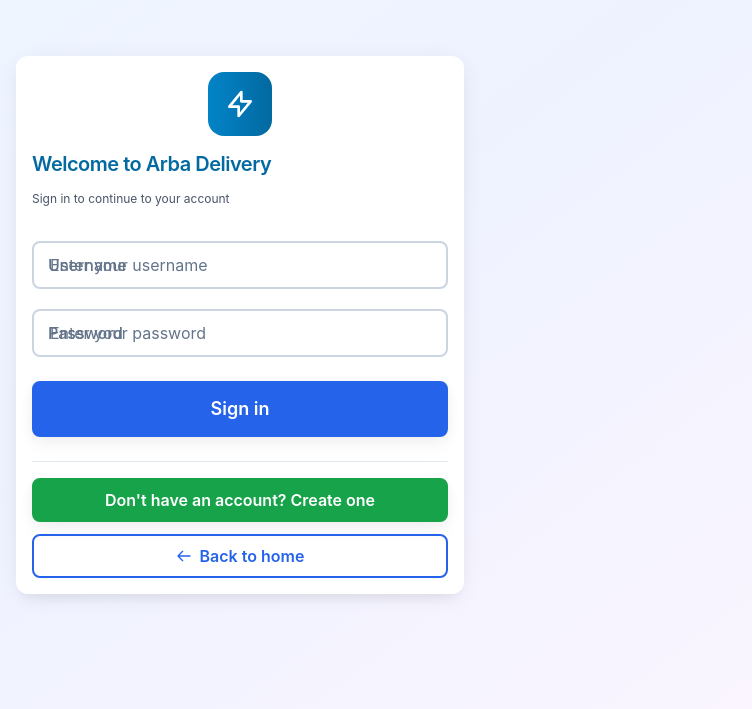
Test: Authentication Integration Tests › Authentication Flow Functionality › Login Page › should handle login errors gracefully
Type "wronguser" into the field labelled "Username" at (240, 265), box x1=32 y1=241 x2=448 y2=289
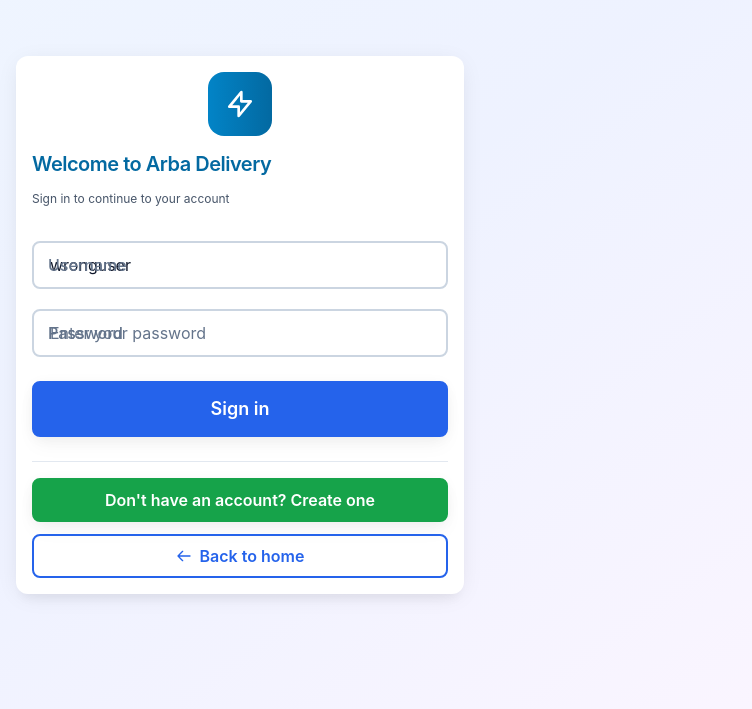
Type "wrongpass" into the password field labelled "Password" at (240, 333), box x1=32 y1=309 x2=448 y2=357
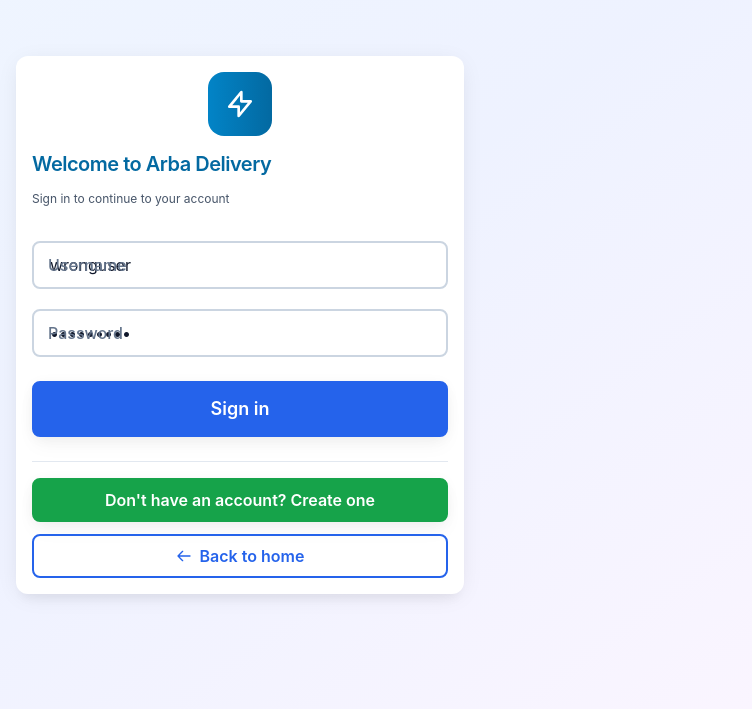
Click the button "Sign in" at (240, 409), box x1=32 y1=381 x2=448 y2=437
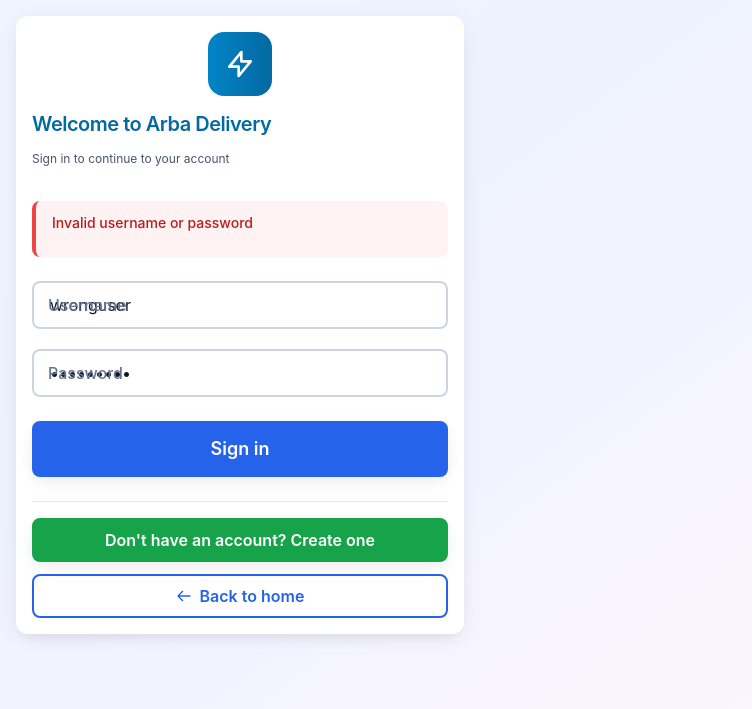
Result: the text "Invalid username or password" is shown at x1=52 y1=214 x2=253 y2=231
